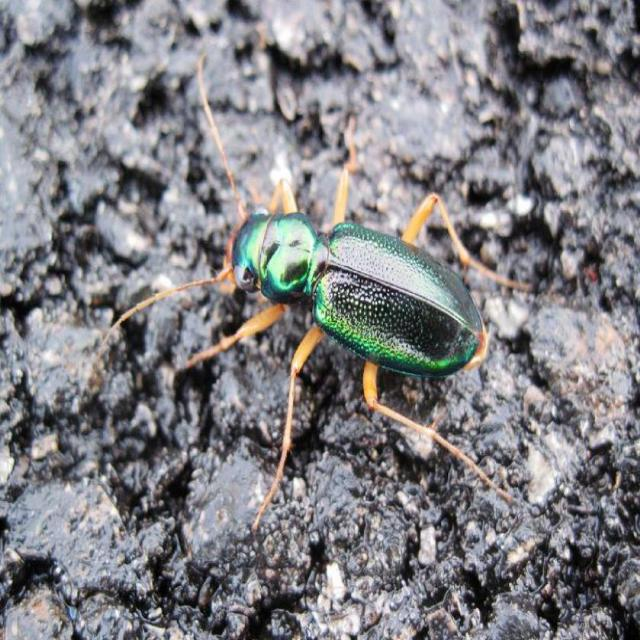BlisterBeetle-Adult-: (103, 52, 559, 523)
